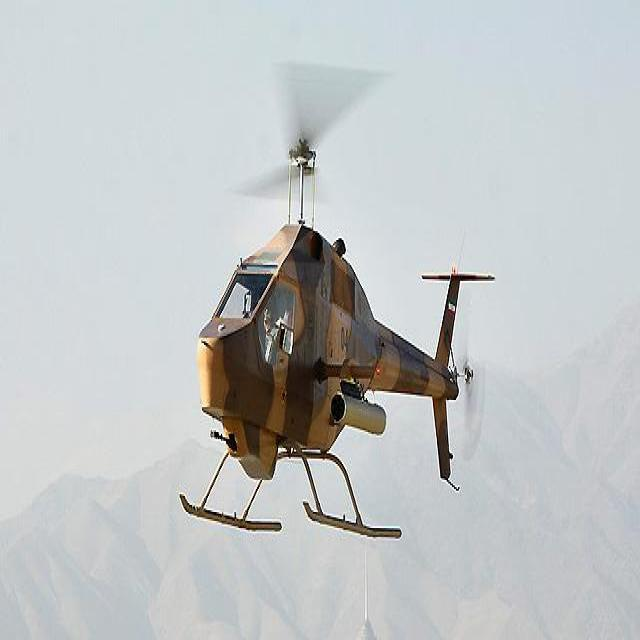MIL_HELO: (136, 10, 508, 563)
